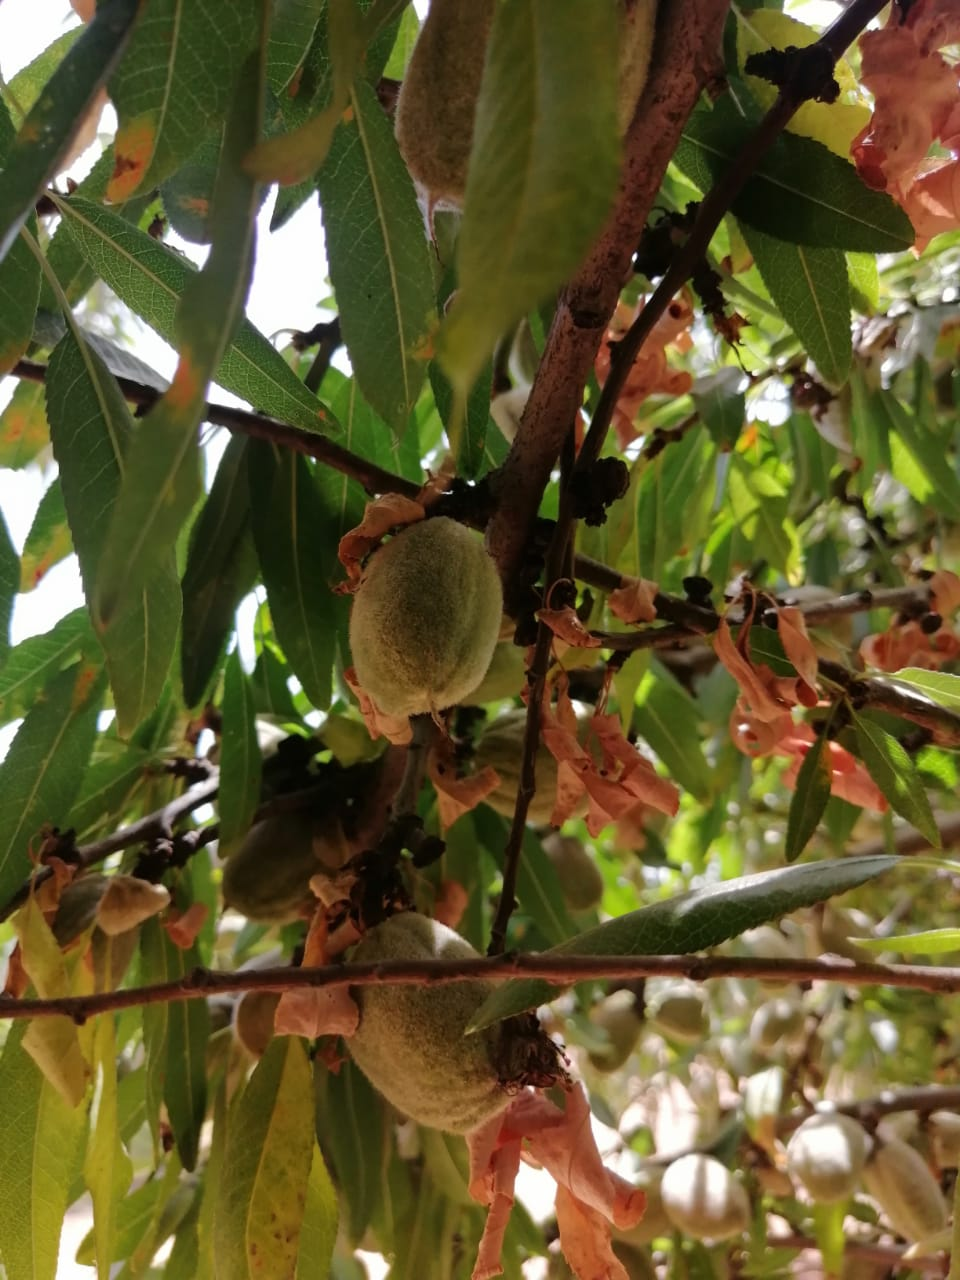chancre fusicocum: (525, 577, 960, 838), (330, 463, 465, 590)
